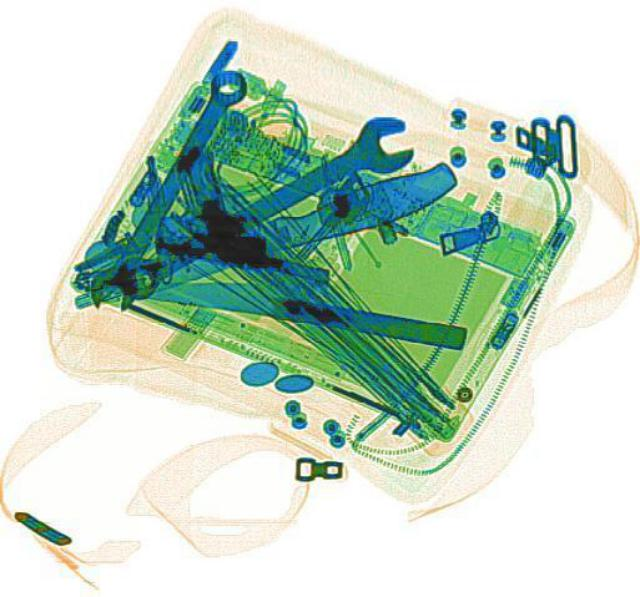Gun: (150, 140, 350, 277)
Knife: (124, 156, 462, 299), (105, 258, 467, 347)
Wrench: (100, 103, 428, 312), (78, 62, 256, 315)
